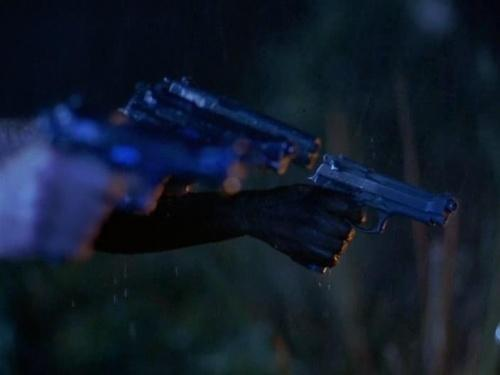Gun: (115, 69, 317, 211), (304, 152, 457, 275)
